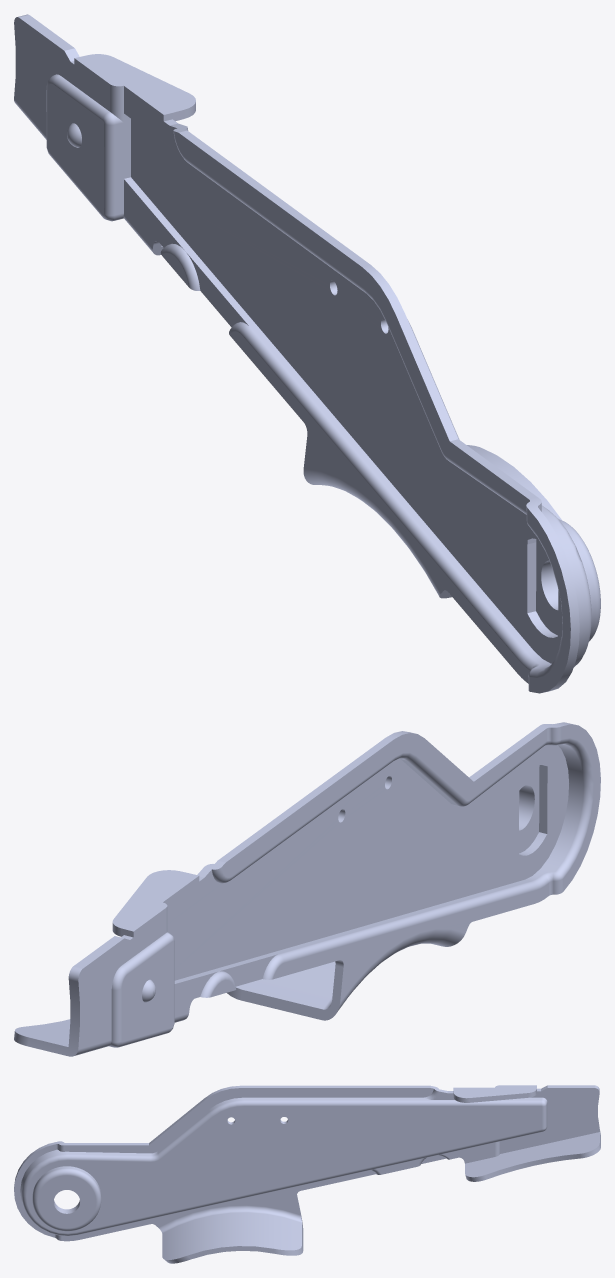
File: ak12_selector_switch.glb
3 renders of one model, top to bottom at view 1: azimuth 30°, elevation 25°; view 2: azimuth 150°, elevation 25°; view 3: azimuth 270°, elevation 25°, orthographic. The views are drawn at different scales.
Visible parts, largest first — view 1: AK12_SelectorSwitch; view 2: AK12_SelectorSwitch; view 3: AK12_SelectorSwitch.
Boxes of the visible parts, x1,y1,x2,y2 form: AK12_SelectorSwitch: [14, 14, 600, 693]; AK12_SelectorSwitch: [14, 722, 600, 1056]; AK12_SelectorSwitch: [14, 1085, 600, 1263].
Bounding box in the file's own units: 0.0188 × 0.0319 × 0.1108.
